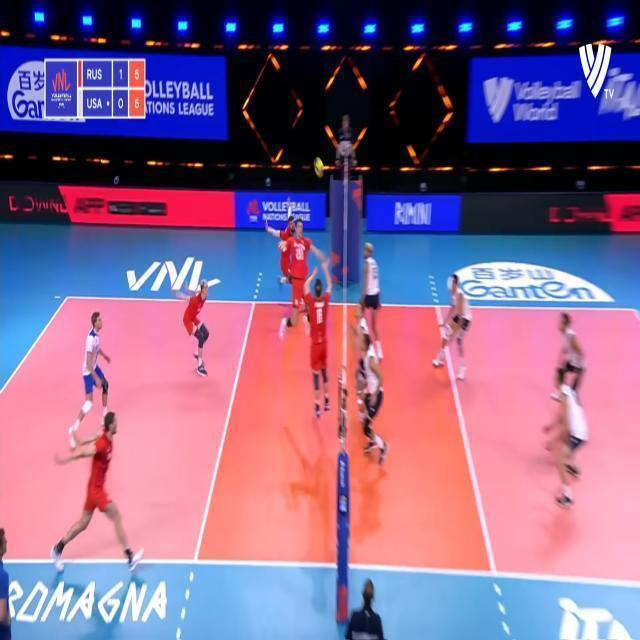volleyball: (313, 157, 325, 175)
